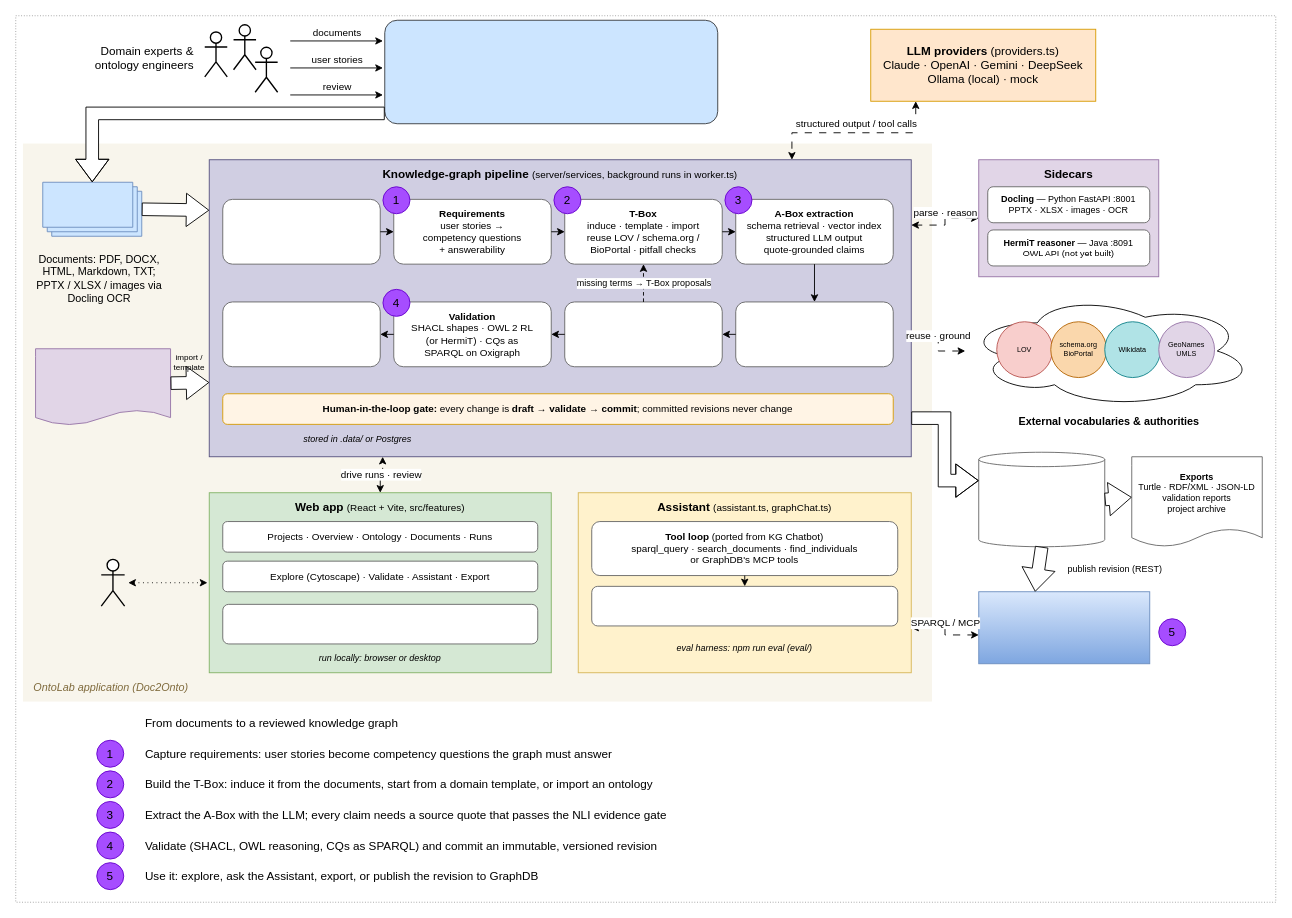
This 1292x918 diagram has some shape labels left out. Each missing label, with the centre of its shape:
API — Node HTTP server :3000, /api/* (router.ts) SSE streaming for the Assistant: (x=380, y=623)
Citations [Q1] queries · [C1] document chunks → evidence graph: (x=744, y=605)
Commit immutable revision T-Box & A-Box versioned separately: (x=301, y=334)
Doc2Onto — OntoLab Documents → reviewed, evidence-backed knowledge graph: (x=551, y=71)
Entity resolution & grounding Wikidata · GeoNames · UMLS: (x=814, y=334)
Evidence gate NLI (local DeBERTa) + MiniLM embeddings: (x=643, y=334)
Existing ontology TTL · RDF/XML · JSON-LD or domain template: (x=103, y=386)
Ontology engineer reviews · approves · commits: (x=112, y=582)
Ontotext GraphDB 11+ named graph urn:ontolab:project:<id>: (x=1064, y=627)
Parse & chunk parsing · structuredText chunking (~12 % overlap, section paths): (x=301, y=231)
Project store .data/ or Postgres (single-user workspace): (x=1041, y=499)
